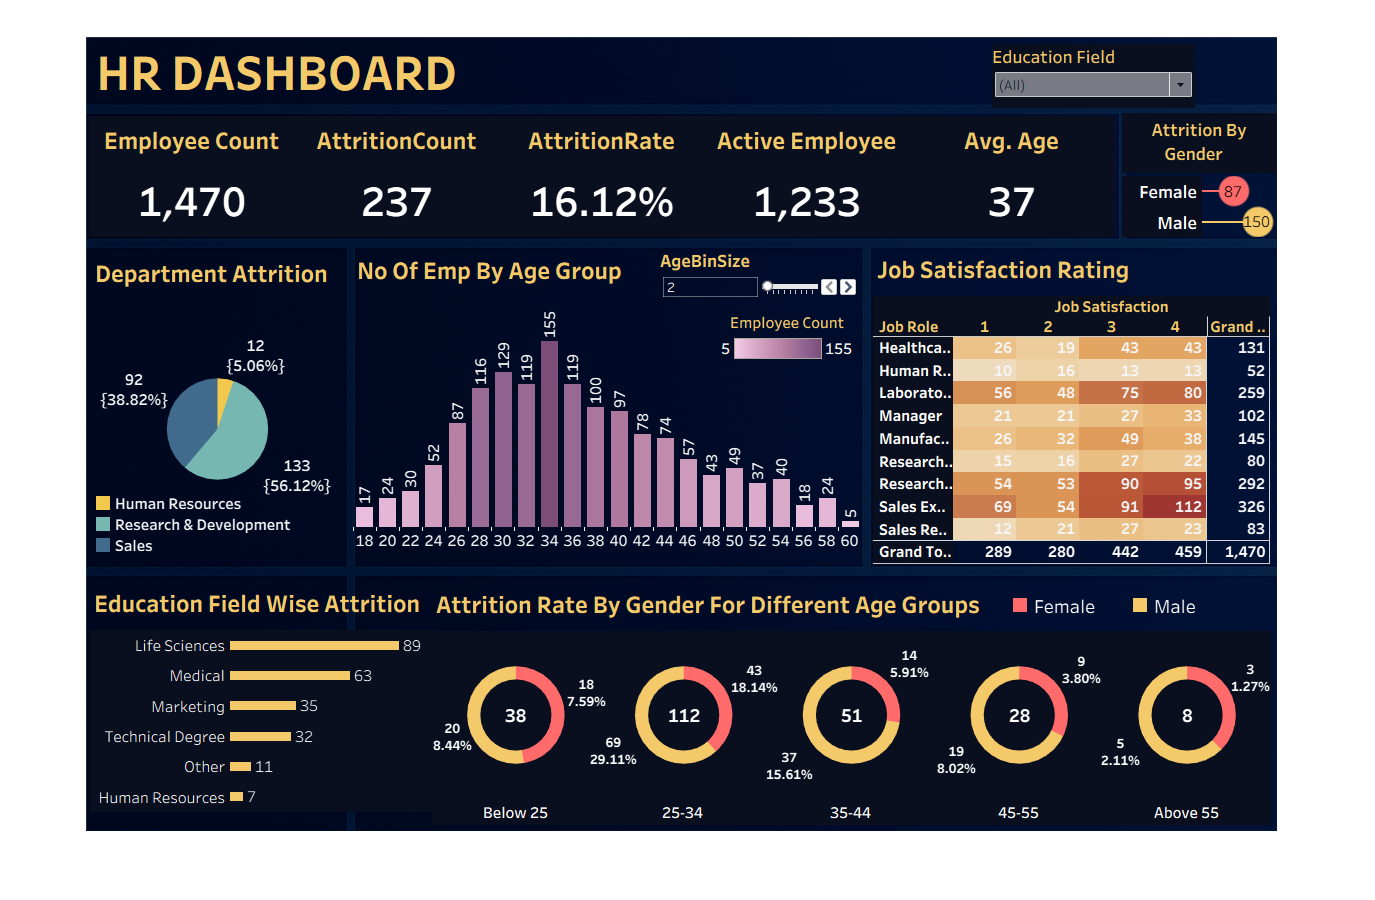

The dashboard page shown, as its layout file describes it:
{"tool":"tableau","page":{"name":"HRDash","canvas":[1580,900],"ordinal":0},"visuals":[{"type":"image","param":"C:/Users/JAY/Downloads/ChatGPT_Image_Jul_15_2025_12_04_01_PM_1479x986.png","box":[18,43,1531,794]},{"type":"text","box":[195,47,728,60]},{"type":"filter","title":"KPI","param":"[federated.0uw111d1j660hj1gktm531wf63gf].[none:EducationField:nk]","box":[1094,50,203,64]},{"type":"worksheet","title":"Sheet 2","mark":"Automatic","rows":["Gender"],"cols":["Calculation_200691690033451008","Calculation_200691690033451008"],"box":[1224,119,154,124]},{"type":"worksheet","title":"KPI","mark":"Automatic","box":[191,122,1029,124]},{"type":"parameter","param":"[Parameters].[Parameter 1]","box":[762,255,199,58]},{"type":"worksheet","title":"Job Satisfaction Rating","mark":"Square","rows":["JobRole"],"cols":["JobSatisfaction"],"box":[975,255,398,315]},{"type":"worksheet","title":"No Of Emp By Age Group","mark":"Automatic","rows":["EmployeeCount"],"cols":["Age (bin)"],"box":[455,256,509,302]},{"type":"worksheet","title":"Departement Attrition","mark":"Pie","box":[193,259,253,305]},{"type":"legend","title":"No Of Emp By Age Group","param":"[federated.0uw111d1j660hj1gktm531wf63gf].[sum:EmployeeCount:qk]","box":[819,318,140,58]},{"type":"legend","title":"Departement Attrition","param":"[federated.0uw111d1j660hj1gktm531wf63gf].[none:Department:nk]","box":[195,499,202,63]},{"type":"worksheet","title":"Education Field Wise Attrition","mark":"Automatic","rows":["EducationField"],"cols":["Calculation_200691690033451008"],"box":[192,589,345,229]},{"type":"worksheet","title":"Attrition ","mark":"Pie","rows":["Calculation_200691690156675076","Calculation_200691690156675076"],"cols":["Age_Band"],"box":[534,590,840,241]},{"type":"legend","title":"Attrition ","param":"[federated.0uw111d1j660hj1gktm531wf63gf].[none:Gender:nk]","box":[1110,599,264,37]}]}

Visuals, with their boxes on the page's 1580x900 design canvas (x1, y1, x2, y2). These are canvas units, not pixel positions in the 1375x900 screenshot, which may show the page scaled, cropped or inside an application window:
image: [18,43,1549,837]
text: [195,47,923,107]
"KPI" filter: [1094,50,1297,114]
"Sheet 2" worksheet: [1224,119,1378,243]
"KPI" worksheet: [191,122,1220,246]
parameter: [762,255,961,313]
"Job Satisfaction Rating" worksheet (Square marks): [975,255,1373,570]
"No Of Emp By Age Group" worksheet: [455,256,964,558]
"Departement Attrition" worksheet (Pie marks): [193,259,446,564]
"No Of Emp By Age Group" legend: [819,318,959,376]
"Departement Attrition" legend: [195,499,397,562]
"Education Field Wise Attrition" worksheet: [192,589,537,818]
"Attrition " worksheet (Pie marks): [534,590,1374,831]
"Attrition " legend: [1110,599,1374,636]
